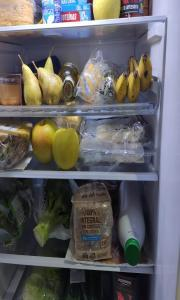Brocoli: (32, 176, 72, 247)
Leche: (117, 182, 150, 265)
Lechuga/Endivia: (21, 263, 64, 300)
Manzana: (32, 117, 78, 171), (93, 0, 122, 28)
Plátano: (138, 52, 152, 92), (128, 58, 138, 100), (116, 70, 128, 105)
